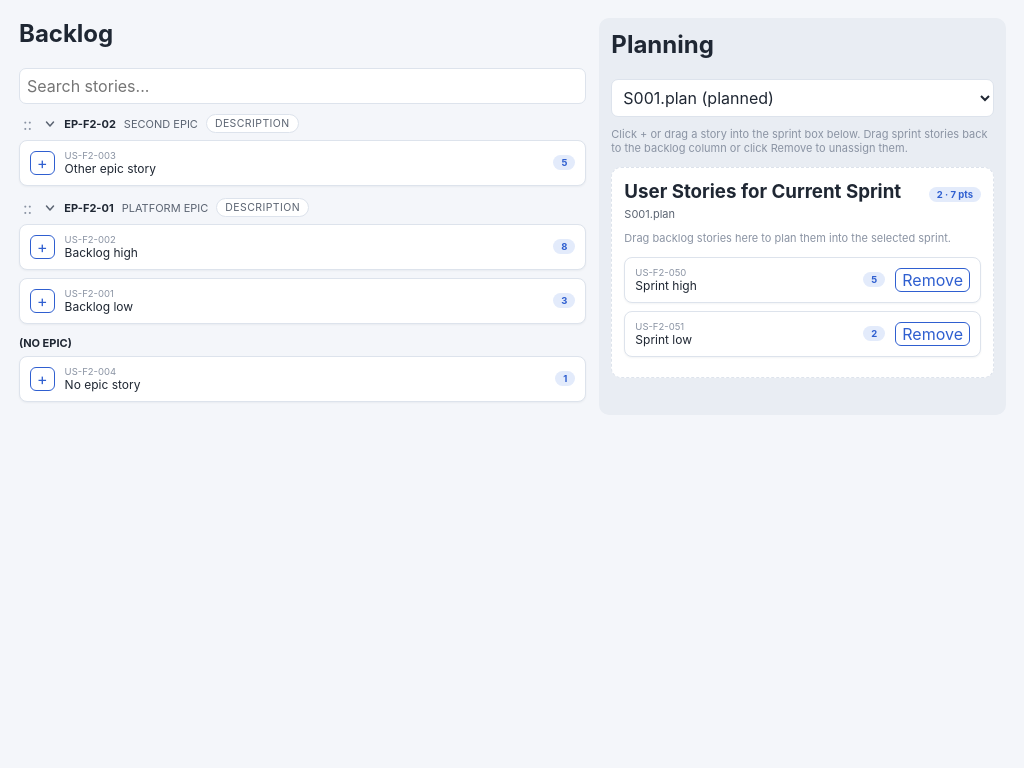
it: BacklogView › opens the story sidebar from a backlog story click
Click the text "Backlog low" at (99, 306), box [65,299,133,314]
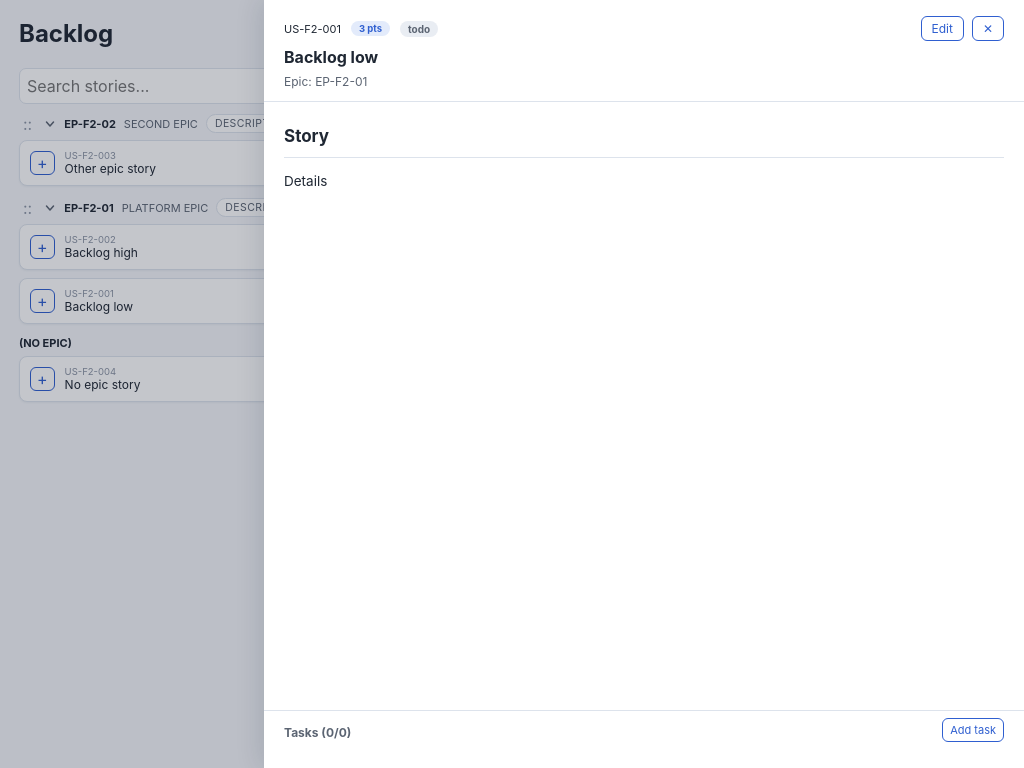
Result: the text "Details" is shown at [284,173,327,189]
Result: the button "Edit" is shown at [920,16,964,41]
